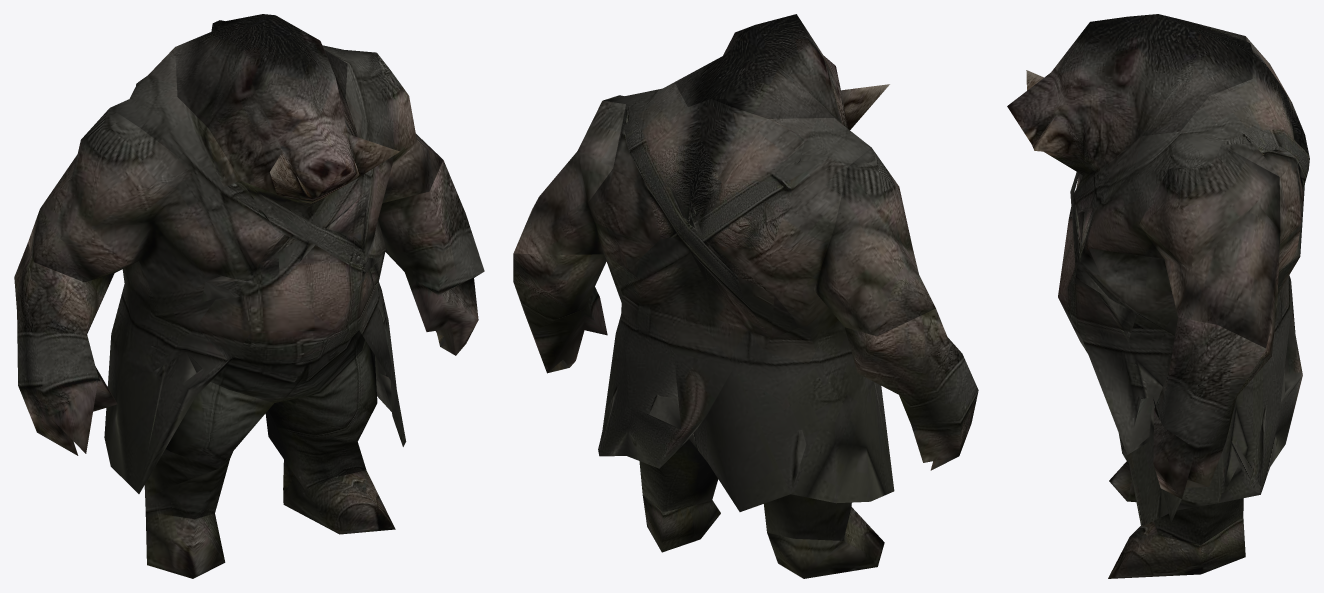
The model's file is cavalry_atk_gibs.glb.
3 views of the same model, side by side, from view 1: azimuth 30°, elevation 25°; view 2: azimuth 150°, elevation 25°; view 3: azimuth 270°, elevation 25° (orthographic).
Parts seen in each view (by area): view 1: Body.001, Head.001, Arm.R.001, Forarm.R.001, Forarm.L.001, Upleg.R.001, Upleg.L.001, Leg.L.001, Leg.R.001, Arm.L.001; view 2: Body.001, Arm.R.001, Head.001, Forarm.R.001, Forarm.L.001, Arm.L.001, Leg.R.001, Upleg.L.001, Upleg.R.001, Leg.L.001; view 3: Body.001, Head.001, Arm.L.001, Forarm.L.001, Leg.L.001, Upleg.L.001, Leg.R.001.
Part boxes in pixels (bbox=[...]): Body.001: bbox=[104, 45, 406, 493]; Head.001: bbox=[175, 14, 399, 206]; Arm.R.001: bbox=[28, 108, 191, 282]; Forarm.R.001: bbox=[14, 243, 117, 455]; Forarm.L.001: bbox=[378, 160, 484, 355]; Upleg.R.001: bbox=[144, 382, 273, 519]; Upleg.L.001: bbox=[265, 340, 377, 490]; Leg.L.001: bbox=[283, 460, 395, 534]; Leg.R.001: bbox=[145, 512, 225, 578]; Arm.L.001: bbox=[377, 53, 443, 203]; Body.001: bbox=[588, 84, 894, 511]; Arm.R.001: bbox=[813, 147, 935, 336]; Head.001: bbox=[664, 14, 889, 129]; Forarm.R.001: bbox=[845, 308, 978, 470]; Forarm.L.001: bbox=[513, 253, 607, 373]; Arm.L.001: bbox=[513, 95, 625, 254]; Leg.R.001: bbox=[767, 507, 884, 578]; Upleg.L.001: bbox=[639, 439, 718, 511]; Upleg.R.001: bbox=[764, 494, 851, 540]; Leg.L.001: bbox=[642, 495, 720, 552]; Body.001: bbox=[1058, 37, 1309, 526]; Head.001: bbox=[1007, 14, 1252, 175]; Arm.L.001: bbox=[1139, 145, 1280, 348]; Forarm.L.001: bbox=[1153, 305, 1277, 498]; Leg.L.001: bbox=[1108, 517, 1245, 578]; Upleg.L.001: bbox=[1118, 399, 1243, 545]; Leg.R.001: bbox=[1109, 461, 1136, 502].
Size of the model in its own units: 0.8733 by 0.9634 by 0.5083.
2 materials, 1 textured.
